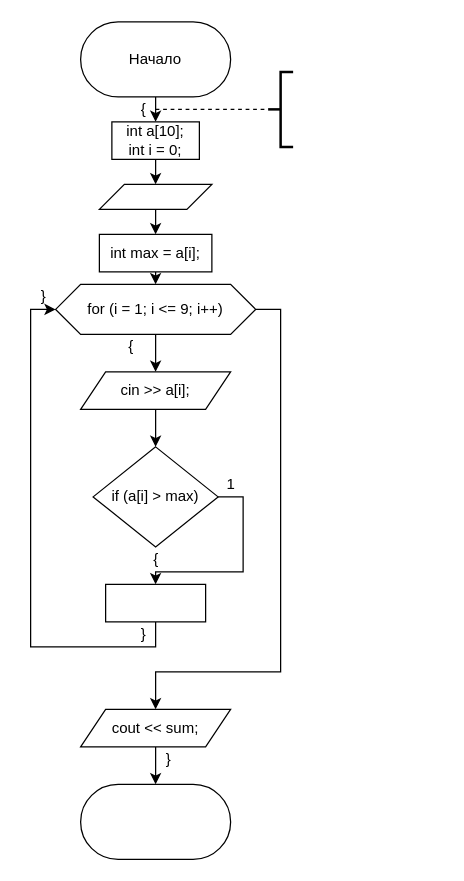
This 464x881 diagram has some shape labels left out. The centre of each missing label's shape, as x and y in pixels:
#include <iostream> using namespace std; int main(): the point at 280,109
cin >> n;: the point at 155,196
max = a[i];: the point at 155,602
Конец: the point at 155,821
